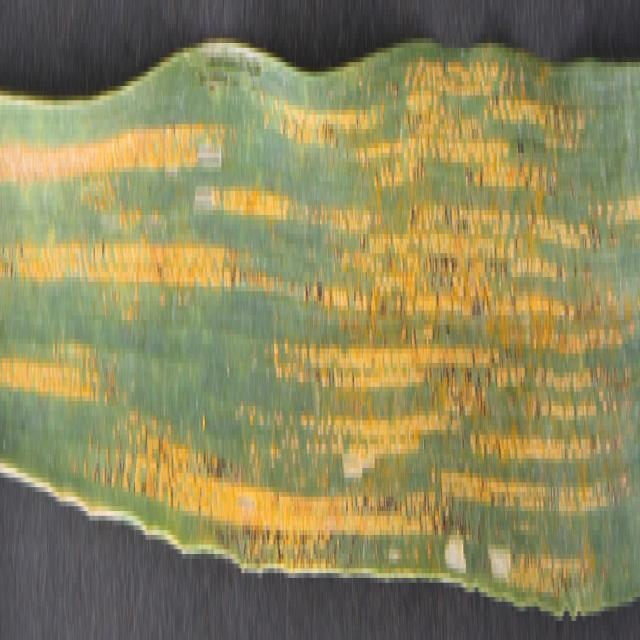leaf rust: (0, 38, 640, 597)
